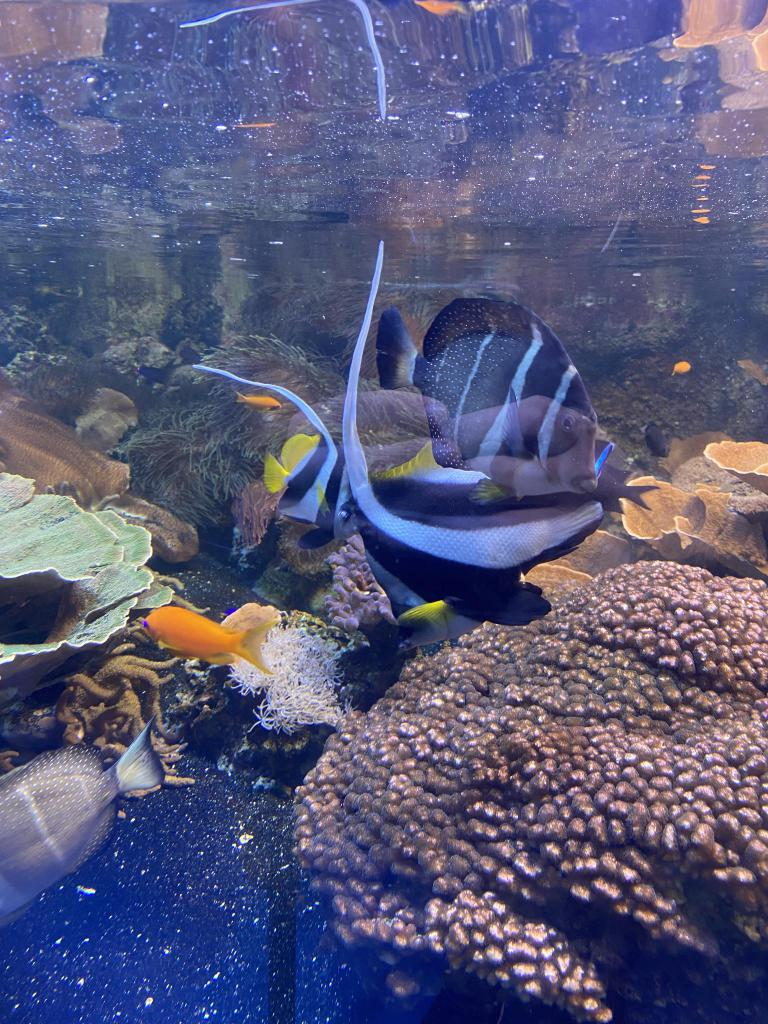fish: (351, 436, 601, 654), (374, 296, 598, 502), (0, 712, 168, 928), (261, 426, 367, 548), (140, 606, 264, 666), (236, 390, 280, 412)
